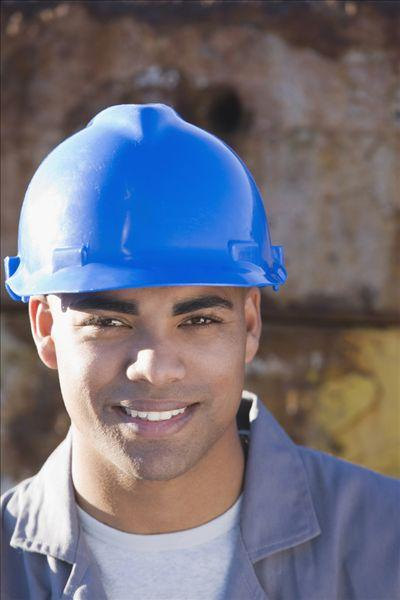helmet: (12, 105, 288, 297)
